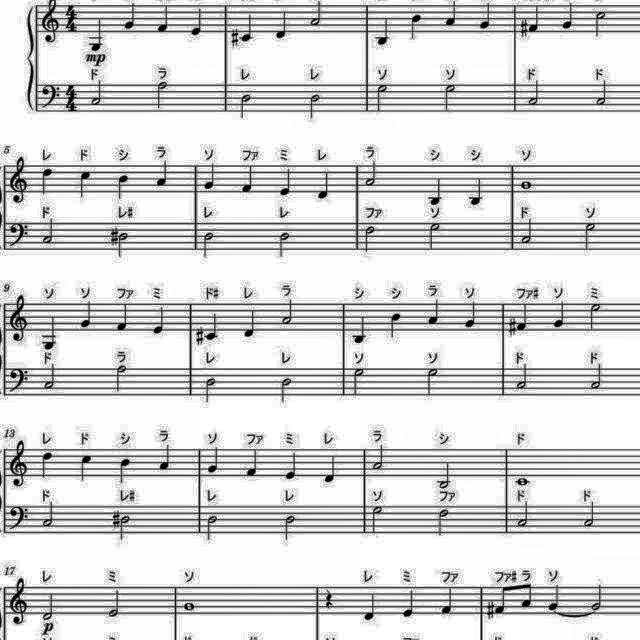Bass-clef: (5, 361, 33, 399), (4, 218, 32, 252), (38, 77, 62, 116), (8, 501, 28, 535)
Diez: (108, 508, 122, 532), (228, 26, 240, 52), (194, 324, 206, 348), (518, 17, 530, 39), (109, 223, 119, 249), (484, 602, 496, 622), (507, 318, 517, 338)
Eighth-note: (494, 584, 510, 620), (519, 582, 533, 610)
Full-note: (512, 474, 532, 490), (182, 599, 198, 615), (519, 178, 537, 192)
Half-note: (586, 300, 606, 336), (275, 376, 297, 408), (307, 90, 329, 122), (40, 498, 60, 532), (518, 216, 538, 250), (590, 6, 610, 40), (367, 504, 385, 540), (374, 80, 392, 116), (514, 500, 534, 532), (200, 372, 220, 404), (514, 362, 534, 394), (89, 78, 109, 110), (434, 458, 454, 490), (106, 586, 124, 620), (364, 222, 381, 258), (422, 367, 442, 397), (362, 157, 380, 190), (444, 82, 461, 116), (588, 363, 608, 391), (433, 507, 451, 538), (203, 512, 220, 544), (200, 228, 216, 262), (582, 220, 598, 254), (39, 591, 57, 621), (282, 514, 300, 544), (352, 366, 368, 399), (118, 512, 134, 544), (42, 360, 58, 392), (114, 362, 130, 394), (278, 230, 294, 262), (428, 220, 444, 252), (154, 80, 170, 112), (526, 78, 542, 110), (592, 78, 608, 110), (580, 500, 598, 528), (372, 443, 388, 473), (280, 299, 296, 329), (40, 217, 56, 247), (116, 230, 132, 260), (308, 0, 324, 30), (589, 581, 603, 611), (239, 91, 253, 121)
Quarter-note: (87, 15, 109, 53), (372, 12, 394, 48), (238, 304, 258, 342), (276, 166, 296, 202), (468, 174, 488, 210), (150, 302, 170, 338), (202, 310, 222, 346), (438, 584, 458, 620), (119, 0, 141, 32), (198, 162, 218, 194), (40, 313, 56, 352), (37, 446, 54, 482), (245, 447, 263, 481), (321, 452, 339, 486), (362, 591, 380, 625), (188, 2, 204, 40), (239, 12, 255, 48), (407, 12, 425, 44), (316, 166, 332, 202), (388, 308, 406, 340), (545, 582, 563, 614), (527, 1, 541, 40), (156, 3, 172, 37), (274, 9, 290, 43), (78, 168, 94, 202), (428, 174, 444, 208), (551, 298, 567, 332), (158, 442, 175, 474), (559, 0, 575, 32), (154, 158, 170, 190), (78, 300, 94, 332), (112, 302, 128, 334), (78, 452, 94, 484), (118, 454, 134, 486), (402, 588, 418, 620), (352, 312, 366, 348), (517, 300, 531, 336), (283, 448, 297, 484), (426, 298, 442, 329), (478, 0, 494, 30), (40, 167, 56, 197), (116, 172, 132, 202), (462, 300, 478, 328), (206, 446, 220, 478), (242, 162, 254, 198), (444, 0, 458, 28)
Quarter-rest: (324, 586, 336, 614)
Treble-clef: (4, 437, 32, 493), (3, 153, 31, 204), (8, 576, 32, 632), (8, 293, 32, 343)
